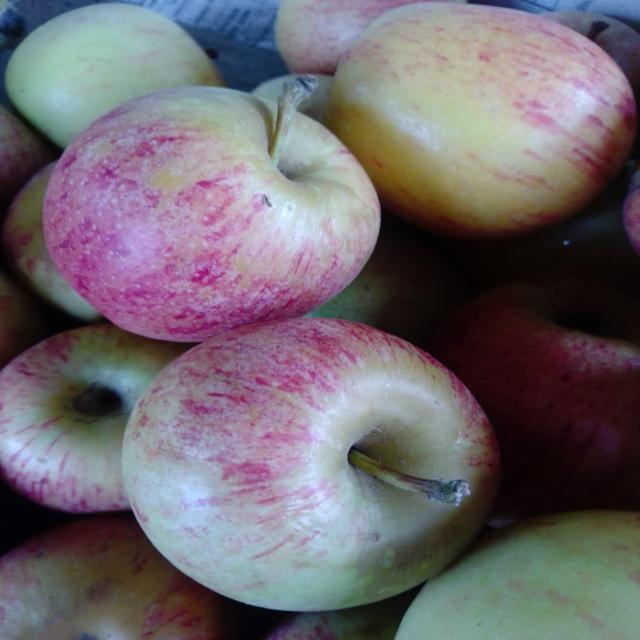Fresh Apple: (118, 316, 495, 602), (42, 82, 373, 323), (336, 0, 629, 231), (0, 313, 156, 500), (8, 2, 215, 140)
